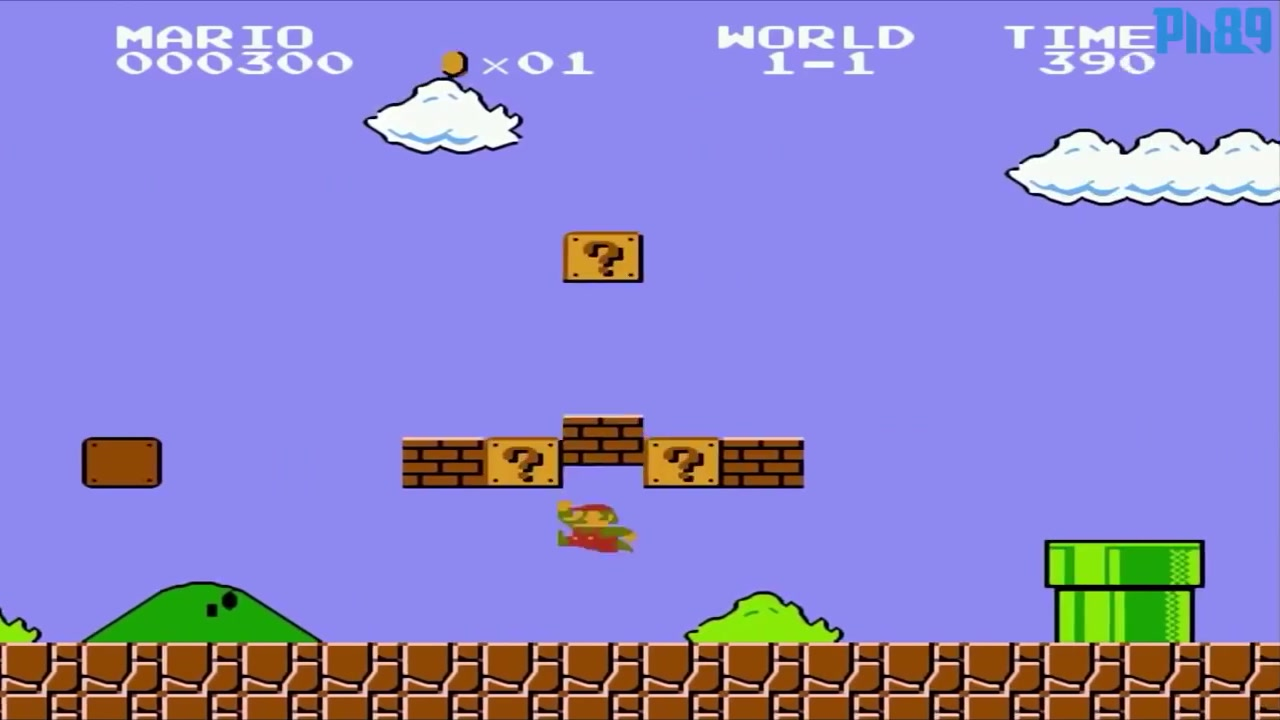mario: (552, 493, 640, 558)
